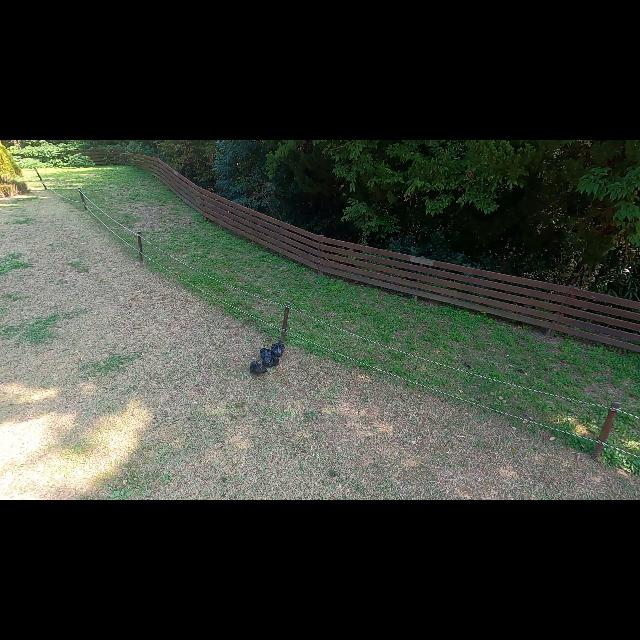trash: (248, 358, 270, 376), (270, 339, 286, 358), (264, 352, 280, 370), (258, 346, 274, 360)
